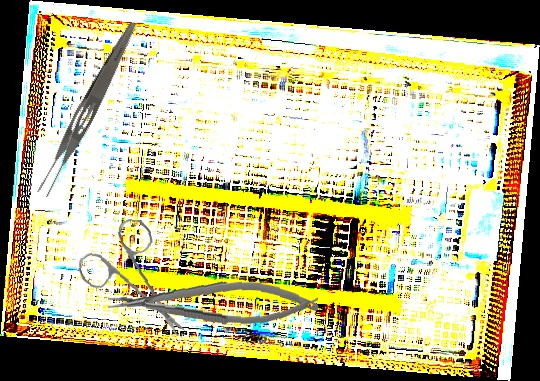Dressing Forceps: (33, 17, 141, 200)
Iris Scissors: (72, 214, 196, 337)
Needle Holder: (106, 273, 320, 330)
